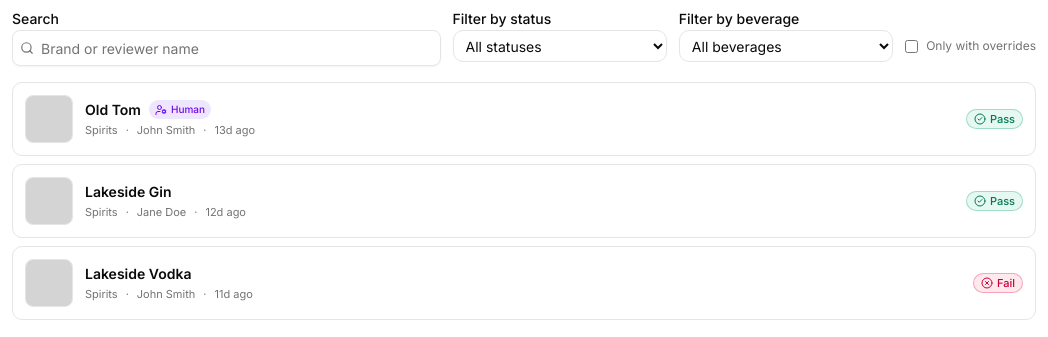
ReviewHistoryList › converges on the correct filter result after rapid typing (deferred search)
The width and height of the screenshot is (1048, 337).
Type "lakeside vodka" into the field labelled "Search" at (226, 48), box [12,30,441,66]
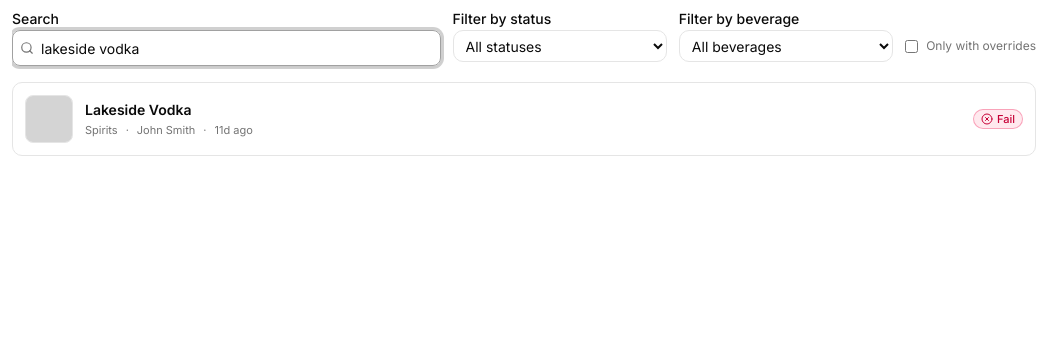
expect the link "Lakeside Vodka" is shown: met, box [85,100,192,120]
expect the number of list items with test id "review-history-row" is 1: met, box [12,82,1036,156]
